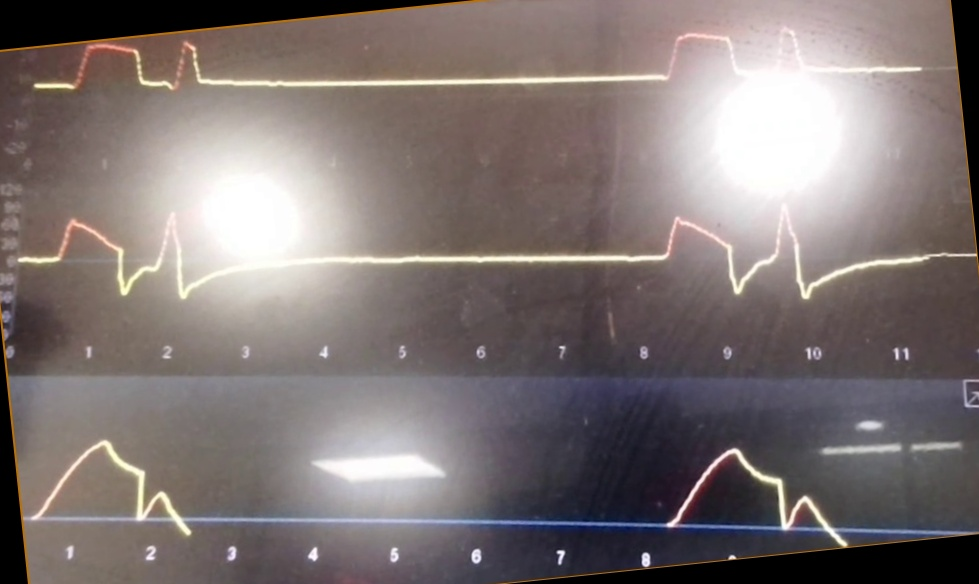Double_Triggering Flow: (22, 183, 966, 319)
Double_Triggering Volume: (27, 421, 849, 545)
